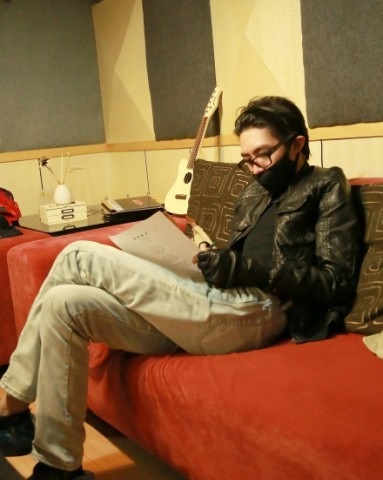face_mask: (240, 125, 288, 193)
